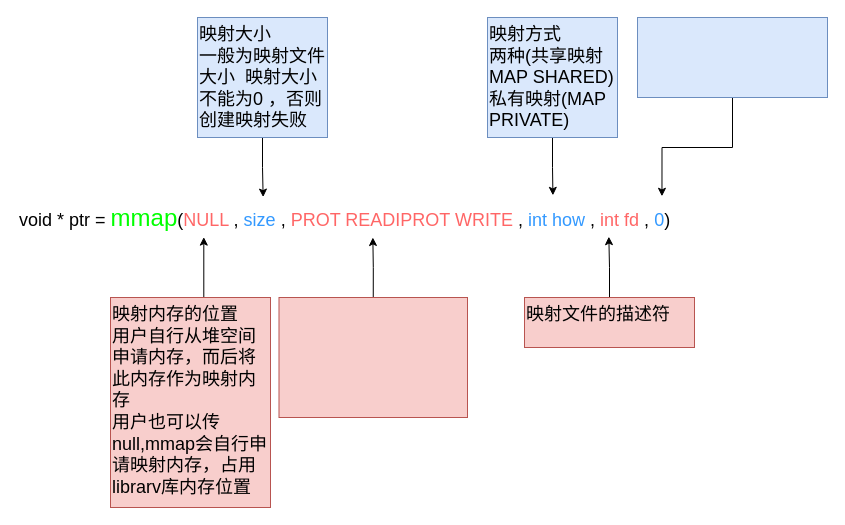
Some shapes in this 845 by 525 pixel diagram are drawn without their labels. The shapes that lost their labels are listed below. From the top down, each one's centre as x and y in pixels, then its label:
At point (732, 57): "映射偏移量 默认传0即可，如果使用要传4k或4k的整数倍".
At point (373, 357): "申请映射内存时候指定内存访问权限 PROT READ I PROT WRITEI PEOT EXEC I PROT NONE".
